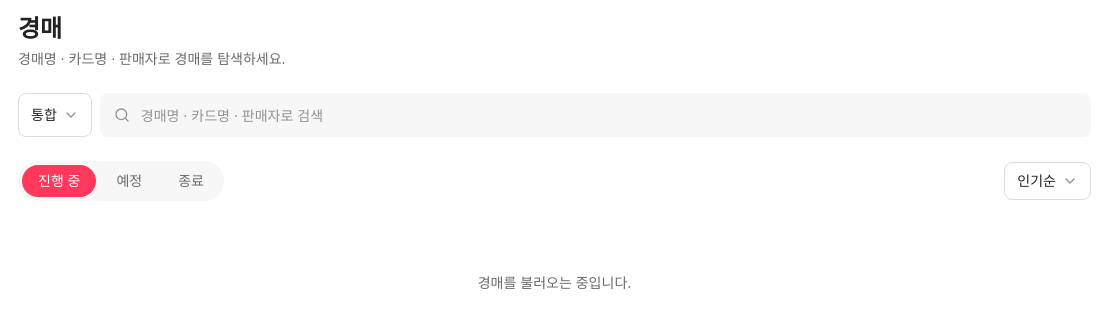
경매 목록 라우트 › 카드명 선택 시 CARD_NAME 조건으로 조회하고 안내 문구를 바꾼다
Press Enter in the button "통합", box [18, 93, 92, 137]
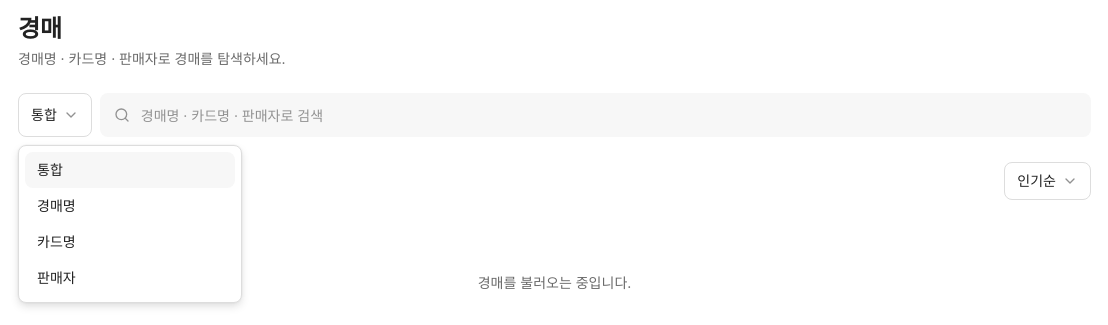
Click the menu item "카드명" at {"x": 56, "y": 242}, box [37, 233, 76, 250]
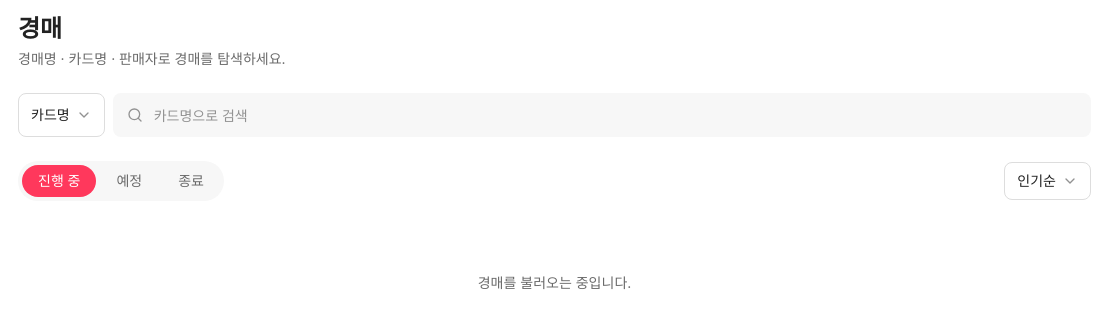
Expected: the field with placeholder "카드명으로 검색" is shown, [113, 93, 1091, 137]
